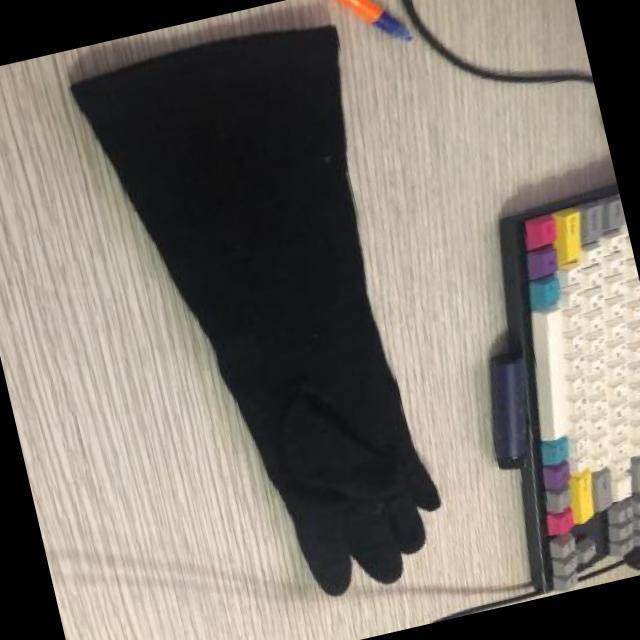glove: (61, 27, 447, 593)
